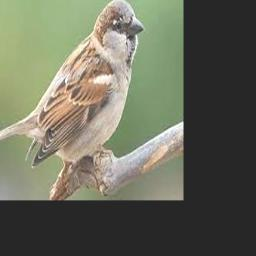Sparrow: (0, 0, 144, 169)
